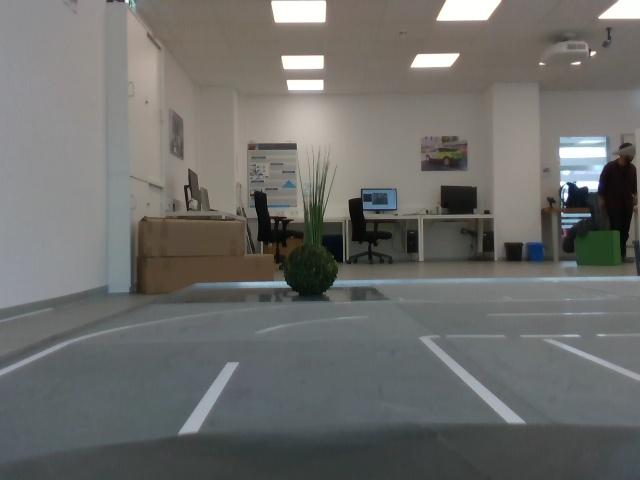potted plant: (298, 147, 337, 235), (285, 242, 339, 300)
